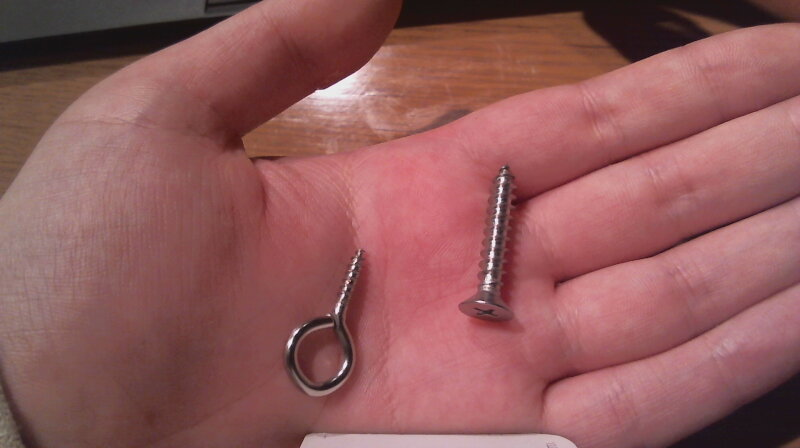O001: (279, 242, 369, 402)
S001: (458, 163, 519, 332)
